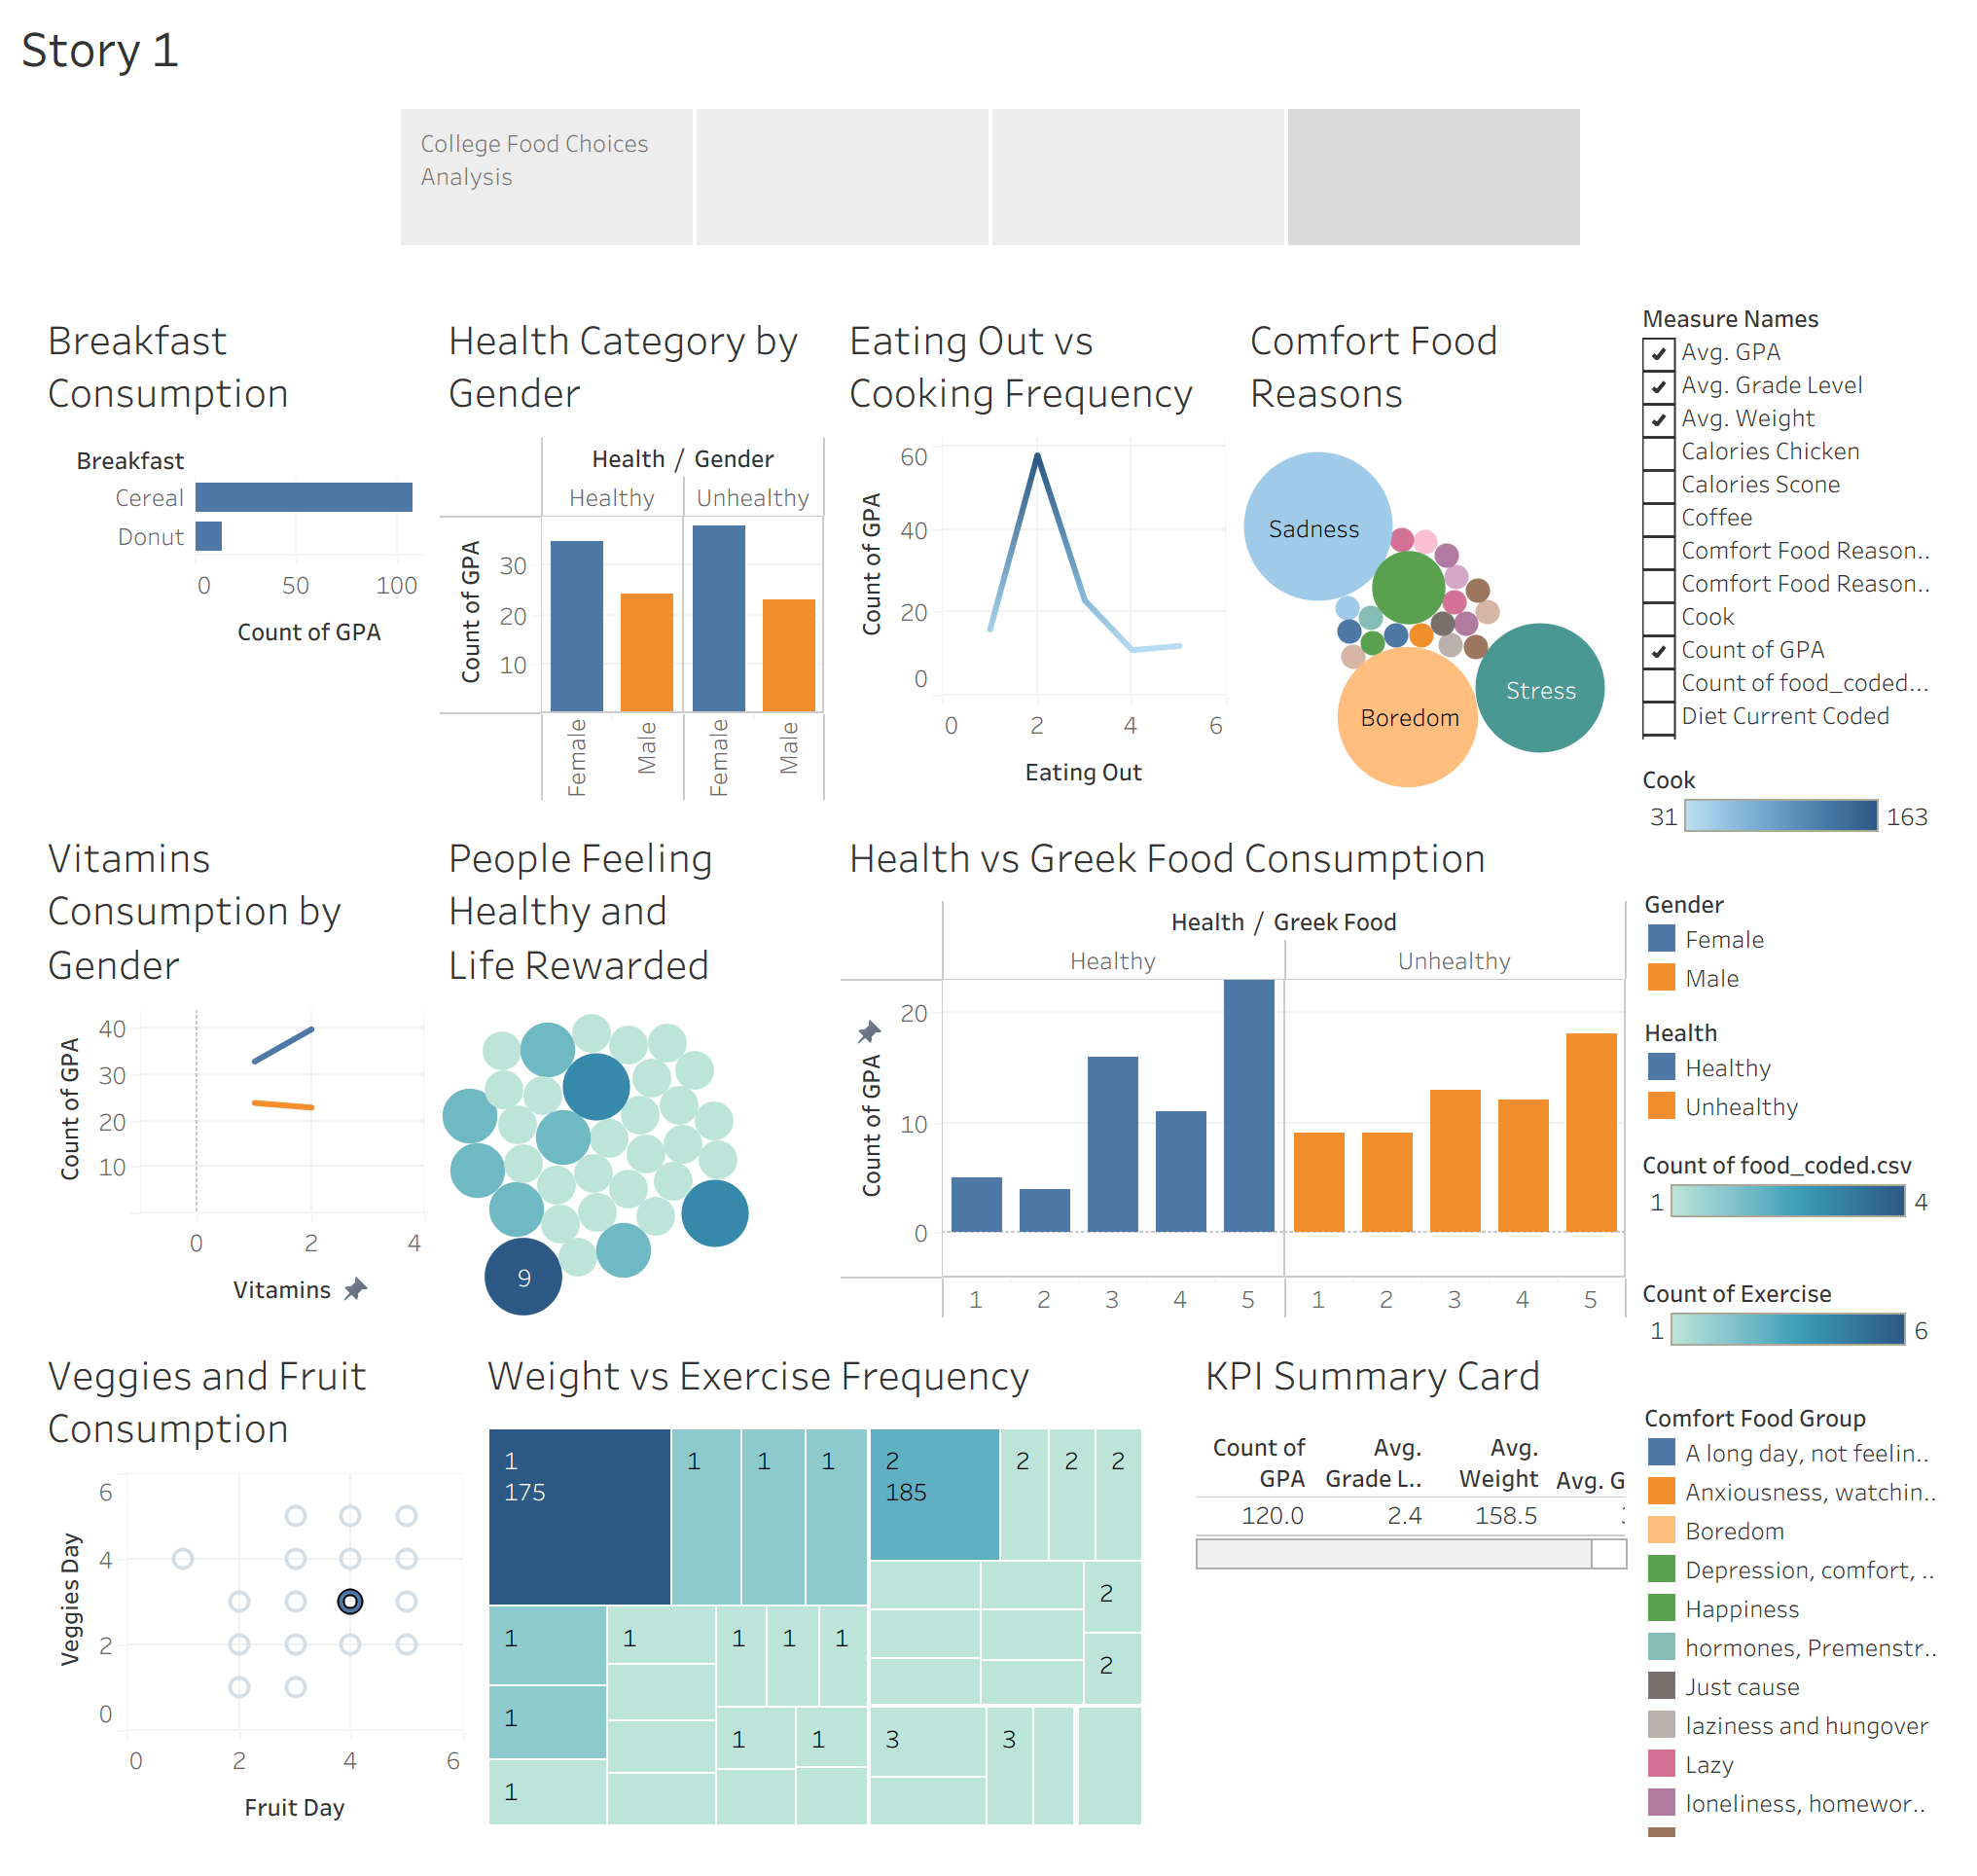

Layout of this report page (visuals, bound fields, positions):
{"tool":"tableau","page":{"name":"Dashboard 1","canvas":[1000,1000],"units":"permille","ordinal":0},"visuals":[{"type":"worksheet","title":"Breakfast Consumption","mark":"Bar","rows":["breakfast"],"cols":["GPA"],"box":[6.2,9.8,215.6,326.8]},{"type":"worksheet","title":"Health Category by Gender","mark":"Automatic","rows":["GPA"],"cols":["Calculation_1435155497394176","Gender"],"box":[221.9,9.8,215.6,326.8]},{"type":"worksheet","title":"Eating Out vs Cooking Frequency","mark":"Automatic","rows":["GPA"],"cols":["eating_out"],"box":[437.5,9.8,215.6,326.8]},{"type":"worksheet","title":"Comfort Food Reasons","mark":"Circle","box":[653.1,9.8,215.6,326.8]},{"type":"filter","title":"KPI Summary Card","param":"[federated.13qb0931591xuq12iphtk01gxd65].[:Measure Names]","box":[868.8,9.8,125,289.8]},{"type":"legend","title":"Eating Out vs Cooking Frequency","param":"[federated.13qb0931591xuq12iphtk01gxd65].[sum:cook:qk]","box":[868.8,299.6,125,79.7]},{"type":"worksheet","title":"Vitamins Consumption by Gender","mark":"Line","rows":["GPA"],"cols":["vitamins"],"box":[6.2,336.6,215.6,326.8]},{"type":"worksheet","title":"People Feeling Healthy and  Life Rewarded","mark":"Circle","box":[221.9,336.6,215.6,326.8]},{"type":"worksheet","title":"Health vs Greek Food Consumption","mark":"Bar","rows":["GPA"],"cols":["Calculation_1435155497394176","greek_food"],"box":[437.5,336.6,431.3,326.8]},{"type":"legend","title":"Health Category by Gender","param":"[federated.13qb0931591xuq12iphtk01gxd65].[none:Gender:ok]","box":[868.8,379.3,125,80.9]},{"type":"legend","title":"Health vs Greek Food Consumption","param":"[federated.13qb0931591xuq12iphtk01gxd65].[none:Calculation_1435155497394176:nk]","box":[868.8,460.2,125,80.9]},{"type":"legend","title":"People Feeling Healthy and  Life Rewarded","param":"[federated.13qb0931591xuq12iphtk01gxd65].[__tableau_internal_object_id__].[cnt:f","box":[868.8,541,125,79.7]},{"type":"legend","title":"Weight vs Exercise Frequency","param":"[federated.13qb0931591xuq12iphtk01gxd65].[cnt:exercise:qk]","box":[868.8,620.7,125,79.7]},{"type":"worksheet","title":"Veggies and Fruit Consumption","mark":"Automatic","rows":["veggies_day"],"cols":["fruit_day"],"box":[6.2,663.4,236.6,326.8]},{"type":"worksheet","title":"Weight vs Exercise Frequency","mark":"Automatic","box":[242.8,663.4,386.2,326.8]},{"type":"worksheet","title":"KPI Summary Card","mark":"Automatic","box":[629.1,663.4,239.7,326.8]},{"type":"legend","title":"Comfort Food Reasons","param":"[federated.13qb0931591xuq12iphtk01gxd65].[Comfort Food Reasons (group)]","box":[868.8,700.4,125,289.9]}]}

Visuals, with their boxes on the dashboard's canvas, which has no fixed pixel size, in thousandths of its width and height (x1, y1, x2, y2). These are canvas units, not pixel positions in the 1977x1876 screenshot, which may show the page scaled, cropped or inside an application window:
"Breakfast Consumption" worksheet (Bar marks): [left=6, top=10, right=222, bottom=337]
"Health Category by Gender" worksheet: [left=222, top=10, right=438, bottom=337]
"Eating Out vs Cooking Frequency" worksheet: [left=438, top=10, right=653, bottom=337]
"Comfort Food Reasons" worksheet (Circle marks): [left=653, top=10, right=869, bottom=337]
"KPI Summary Card" filter: [left=869, top=10, right=994, bottom=300]
"Eating Out vs Cooking Frequency" legend: [left=869, top=300, right=994, bottom=379]
"Vitamins Consumption by Gender" worksheet (Line marks): [left=6, top=337, right=222, bottom=663]
"People Feeling Healthy and  Life Rewarded" worksheet (Circle marks): [left=222, top=337, right=438, bottom=663]
"Health vs Greek Food Consumption" worksheet (Bar marks): [left=438, top=337, right=869, bottom=663]
"Health Category by Gender" legend: [left=869, top=379, right=994, bottom=460]
"Health vs Greek Food Consumption" legend: [left=869, top=460, right=994, bottom=541]
"People Feeling Healthy and  Life Rewarded" legend: [left=869, top=541, right=994, bottom=621]
"Weight vs Exercise Frequency" legend: [left=869, top=621, right=994, bottom=700]
"Veggies and Fruit Consumption" worksheet: [left=6, top=663, right=243, bottom=990]
"Weight vs Exercise Frequency" worksheet: [left=243, top=663, right=629, bottom=990]
"KPI Summary Card" worksheet: [left=629, top=663, right=869, bottom=990]
"Comfort Food Reasons" legend: [left=869, top=700, right=994, bottom=990]
